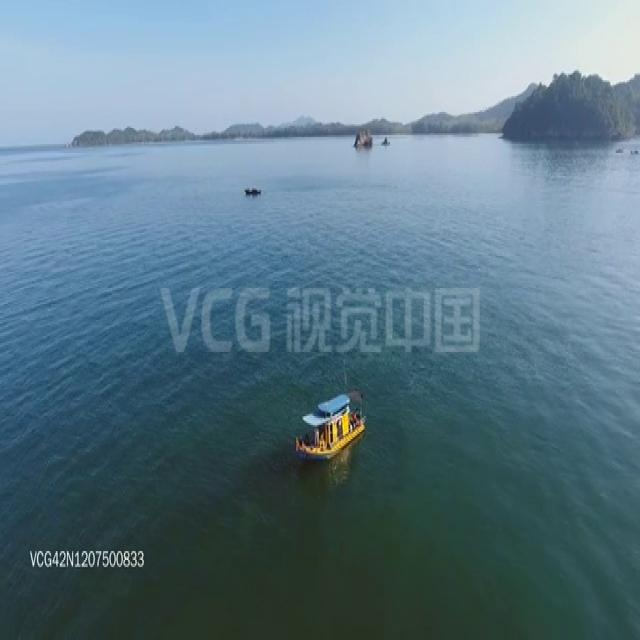fishing boat: (284, 370, 389, 452)
